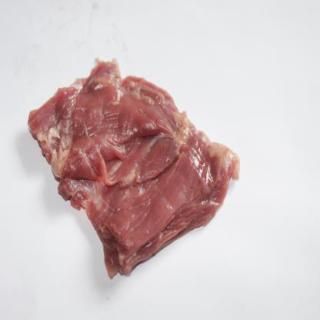Daging Sapi: (31, 64, 240, 280)
